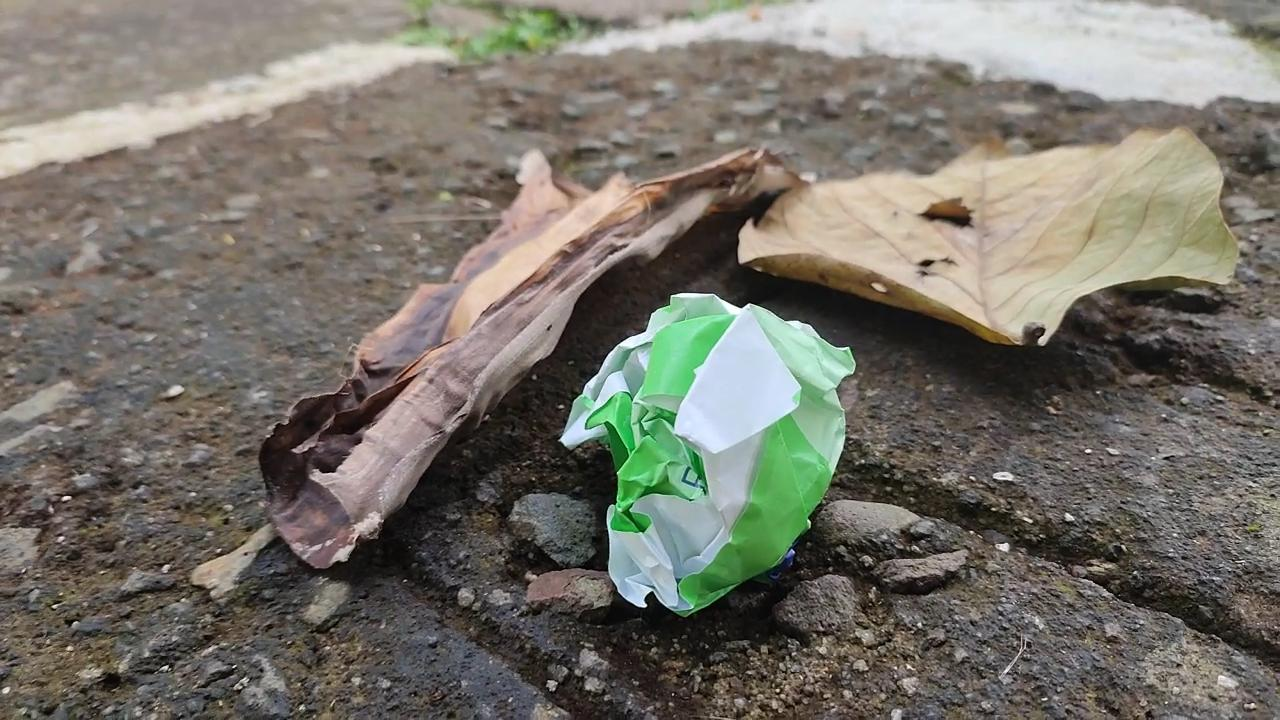Paper: (559, 286, 870, 629)
